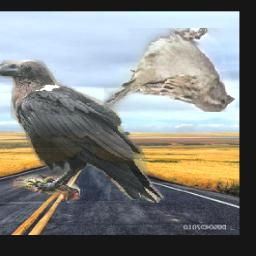Crow: (0, 59, 164, 203)
Sparrow: (103, 28, 234, 112)
